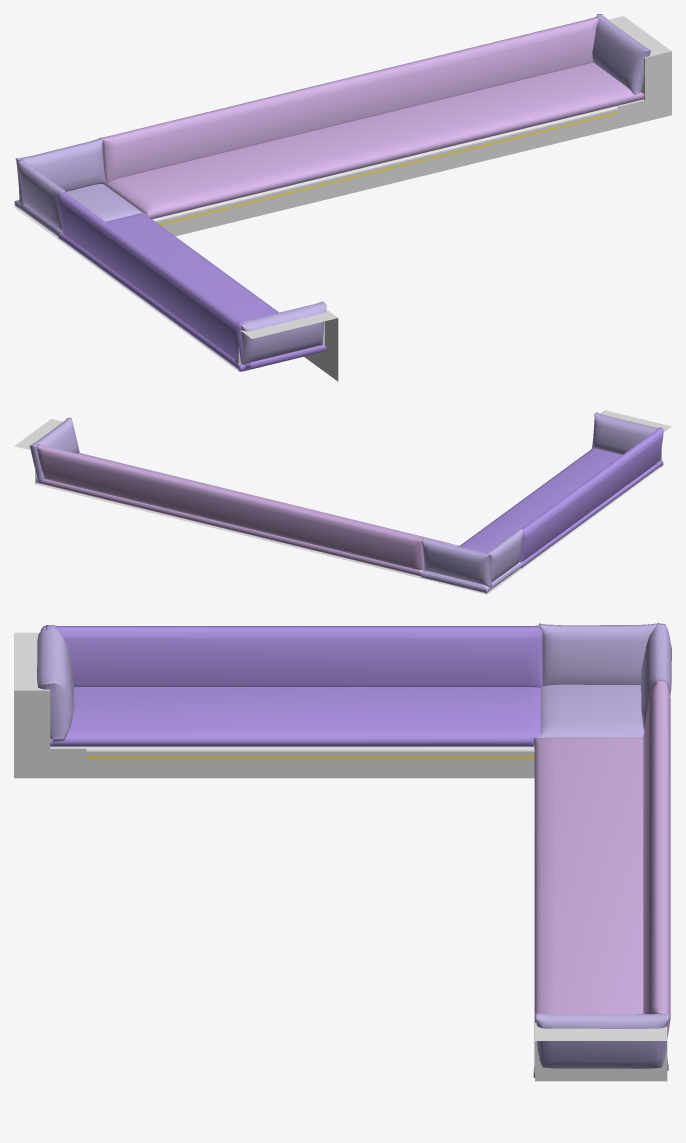
Rendered from sunkenChillSpaceSofa.fbx.
3 views of the same model, one above another, from view 1: azimuth 30°, elevation 25°; view 2: azimuth 150°, elevation 25°; view 3: azimuth 270°, elevation 25° (orthographic). The views are drawn at different scales.
Parts seen in each view (by area): view 1: long bottom cusion lowpolly bottom right.001, long bottom Manual Retopo.001, sunkenSofa, long bottom cusion lowpolly bottom right, long top cusion lowpolly left, corner bottom cusion lowpoly leftside, corner bottom cusion lowpoly right, corner bottom cusion lowpoly rightside, corner bottom retopo, corner bottom lowpoly left; view 2: long bottom Manual Retopo.001, long bottom cusion lowpolly bottom right, long top cusion lowpolly left, long bottom cusion lowpolly bottom right.001, sunkenSofa, corner bottom cusion lowpoly right, corner bottom cusion lowpoly leftside, corner bottom cusion lowpoly rightside, corner bottom lowpoly left, corner bottom retopo; view 3: long bottom cusion lowpolly bottom right.001, long bottom cusion lowpolly bottom right, long top cusion lowpolly left, sunkenSofa, long bottom Manual Retopo.001, corner bottom lowpoly left, corner bottom cusion lowpoly rightside, corner bottom retopo, corner bottom cusion lowpoly leftside, corner bottom cusion lowpoly right.
Boxes of the visible parts, left/top/right/bottom form: long bottom cusion lowpolly bottom right.001: left=106, top=62, right=644, bottom=218; long bottom Manual Retopo.001: left=99, top=17, right=598, bottom=185; sunkenSofa: left=14, top=16, right=671, bottom=381; long bottom cusion lowpolly bottom right: left=57, top=192, right=250, bottom=368; long top cusion lowpolly left: left=58, top=213, right=326, bottom=371; corner bottom cusion lowpoly leftside: left=234, top=301, right=326, bottom=364; corner bottom cusion lowpoly right: left=15, top=138, right=106, bottom=205; corner bottom cusion lowpoly rightside: left=592, top=14, right=650, bottom=94; corner bottom retopo: left=14, top=184, right=146, bottom=236; corner bottom lowpoly left: left=18, top=159, right=65, bottom=230; long bottom Manual Retopo.001: left=36, top=444, right=424, bottom=571; long bottom cusion lowpolly bottom right: left=519, top=427, right=663, bottom=562; long top cusion lowpolly left: left=459, top=448, right=663, bottom=568; long bottom cusion lowpolly bottom right.001: left=36, top=452, right=458, bottom=576; sunkenSofa: left=14, top=410, right=671, bottom=594; corner bottom cusion lowpoly right: left=421, top=538, right=491, bottom=587; corner bottom cusion lowpoly leftside: left=591, top=412, right=662, bottom=464; corner bottom cusion lowpoly rightside: left=29, top=417, right=79, bottom=481; corner bottom lowpoly left: left=486, top=528, right=523, bottom=582; corner bottom retopo: left=420, top=546, right=520, bottom=593; long bottom cusion lowpolly bottom right.001: left=533, top=737, right=643, bottom=1077; long bottom cusion lowpolly bottom right: left=46, top=625, right=542, bottom=687; long top cusion lowpolly left: left=50, top=687, right=540, bottom=746; sunkenSofa: left=14, top=632, right=667, bottom=1081; long bottom Manual Retopo.001: left=643, top=679, right=670, bottom=1038; corner bottom lowpoly left: left=539, top=623, right=655, bottom=686; corner bottom cusion lowpoly rightside: left=535, top=1013, right=668, bottom=1070; corner bottom retopo: left=538, top=684, right=644, bottom=737; corner bottom cusion lowpoly leftside: left=37, top=625, right=74, bottom=741; corner bottom cusion lowpoly right: left=641, top=623, right=671, bottom=729.
Bounding box in the file's own units: 661 × 73.92 × 447.
